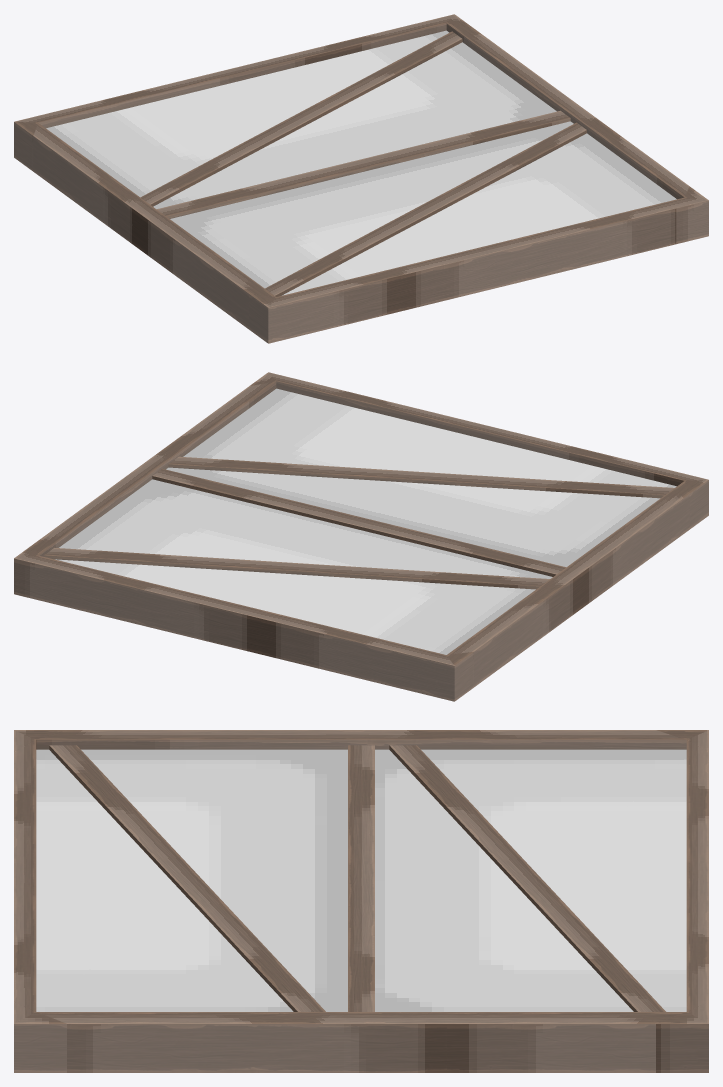
File: SM_WoodenPlanks_01.fbx
The picture shows the model from 3 angles, top to bottom: view 1: azimuth 30°, elevation 25°; view 2: azimuth 150°, elevation 25°; view 3: azimuth 270°, elevation 25°; orthographic projection. The views are drawn at different scales.
Visible parts, largest first — view 1: SM_WoodenPlanks_01; view 2: SM_WoodenPlanks_01; view 3: SM_WoodenPlanks_01.
Boxes of the visible parts, left/top/right/bottom form: SM_WoodenPlanks_01: left=14, top=14, right=708, bottom=343; SM_WoodenPlanks_01: left=14, top=372, right=708, bottom=701; SM_WoodenPlanks_01: left=14, top=730, right=708, bottom=1072.
Size of the model in its own units: 500 by 500 by 40.77.
